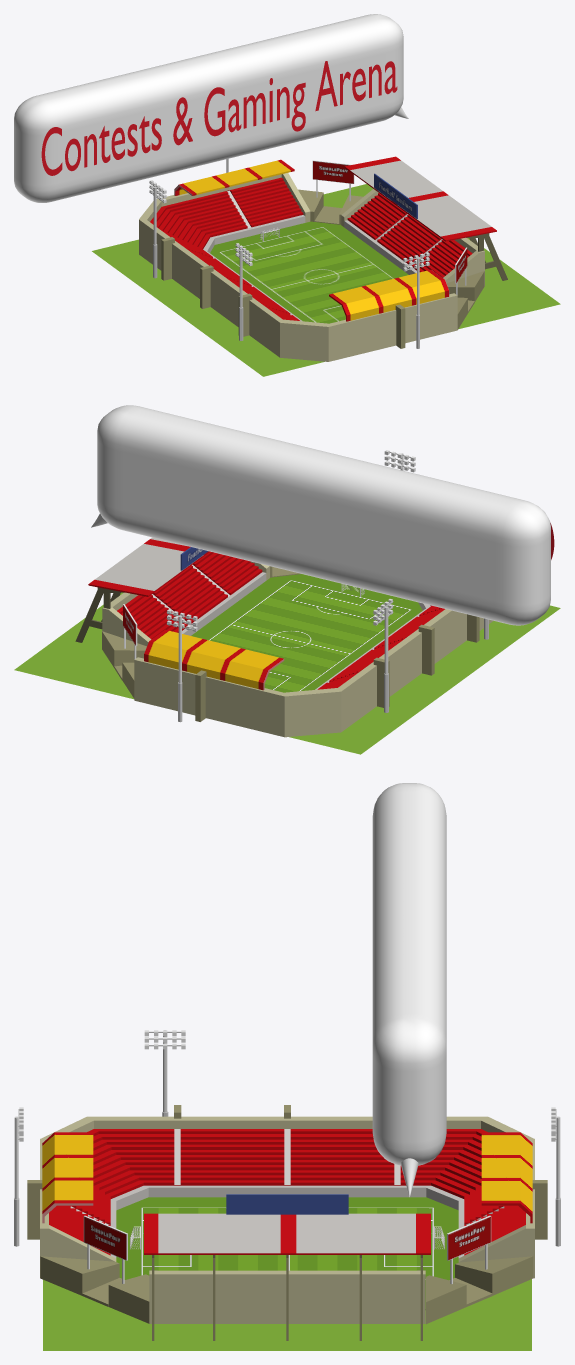
Rendered from stadium1.glb.
3 views of the same model, one above another, from view 1: azimuth 30°, elevation 25°; view 2: azimuth 150°, elevation 25°; view 3: azimuth 270°, elevation 25° (orthographic). The views are drawn at different scales.
Parts seen in each view (by area): view 1: Building_Stadium_Cylinder.003, stadium_speech, stadium_text; view 2: Building_Stadium_Cylinder.003, stadium_speech; view 3: Building_Stadium_Cylinder.003, stadium_speech.
Boxes of the visible parts, bbox=[...] form: Building_Stadium_Cylinder.003: bbox=[92, 156, 560, 376]; stadium_speech: bbox=[14, 14, 408, 202]; stadium_text: bbox=[41, 61, 397, 175]; Building_Stadium_Cylinder.003: bbox=[14, 450, 560, 754]; stadium_speech: bbox=[91, 405, 550, 625]; Building_Stadium_Cylinder.003: bbox=[14, 1030, 560, 1350]; stadium_speech: bbox=[372, 783, 446, 1197].
Size of the model in its own units: 55.61 by 26.49 by 44.76.
Materials: 4 (2 with a texture image).
